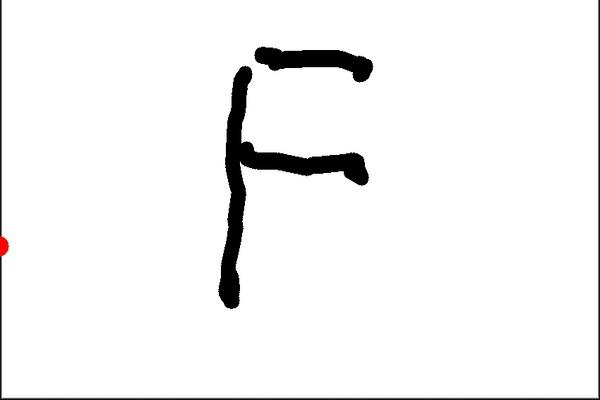F: (212, 43, 374, 310)
